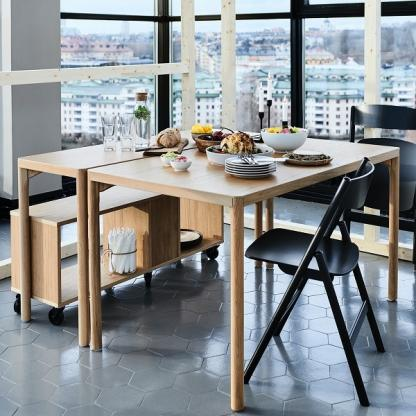Dining Table: (12, 93, 416, 414)
